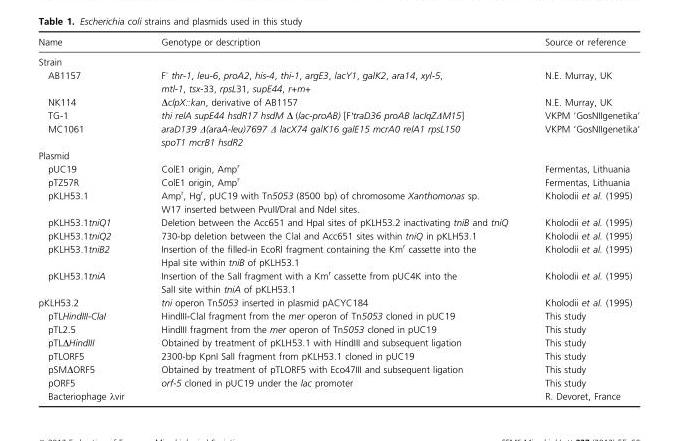table: (37, 37, 639, 401)
table column: (142, 37, 525, 401), (525, 37, 639, 401), (37, 37, 142, 401)
table column header: (37, 37, 639, 52)
table projected row header: (37, 52, 639, 67), (37, 148, 639, 161)
table row: (37, 67, 639, 95), (37, 188, 639, 215), (37, 241, 639, 268), (37, 268, 639, 295), (37, 122, 639, 148), (37, 37, 639, 52), (37, 52, 639, 67), (37, 108, 639, 122), (37, 174, 639, 188), (37, 215, 639, 229), (37, 295, 639, 309), (37, 335, 639, 349), (37, 362, 639, 376), (37, 95, 639, 108), (37, 148, 639, 161), (37, 161, 639, 174), (37, 309, 639, 322), (37, 322, 639, 335), (37, 349, 639, 362), (37, 376, 639, 389), (37, 229, 639, 241), (37, 389, 639, 401)
